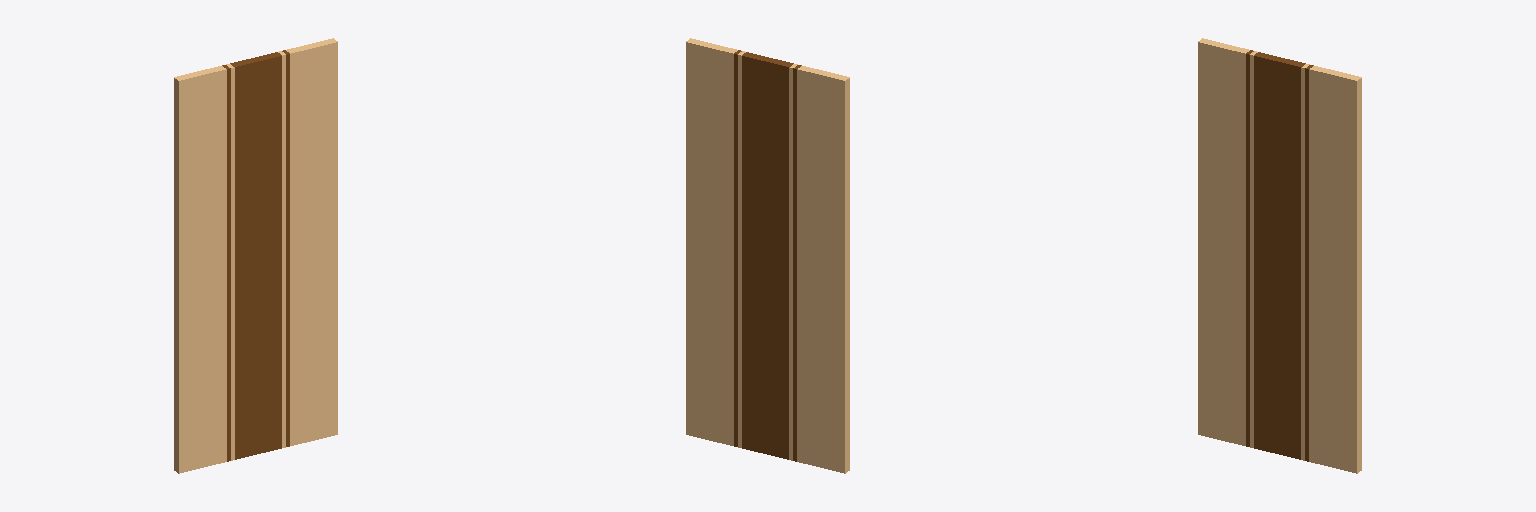
File: flat-8.obj
The picture shows the model from 3 angles: view 1: azimuth 30°, elevation 25°; view 2: azimuth 150°, elevation 25°; view 3: azimuth 330°, elevation 25°; orthographic projection.
Parts seen in each view (by area): view 1: Front_Links4, Front_Links2, Front_Links, Front_Links3, Front_Links1, Front_linke_Mahagonileiste1, Front_linke_Mahagonileiste; view 2: Front_Links4, Front_Links2, Front_Links, Front_Links3, Front_Links1, Front_linke_Mahagonileiste1, Front_linke_Mahagonileiste; view 3: Front_Links2, Front_Links4, Front_Links, Front_Links3, Front_Links1, Front_linke_Mahagonileiste1, Front_linke_Mahagonileiste.
Boxes of the visible parts, <box> form: Front_Links4: <box>174,66,226,473</box>; Front_Links2: <box>286,38,337,445</box>; Front_Links: <box>230,52,281,459</box>; Front_Links3: <box>226,64,234,460</box>; Front_Links1: <box>278,51,285,447</box>; Front_linke_Mahagonileiste1: <box>222,65,230,461</box>; Front_linke_Mahagonileiste: <box>282,50,289,446</box>; Front_Links4: <box>797,66,849,473</box>; Front_Links2: <box>686,38,737,445</box>; Front_Links: <box>742,52,793,459</box>; Front_Links3: <box>789,64,797,460</box>; Front_Links1: <box>738,51,745,447</box>; Front_linke_Mahagonileiste1: <box>793,65,801,461</box>; Front_linke_Mahagonileiste: <box>734,50,741,446</box>; Front_Links2: <box>1309,66,1361,473</box>; Front_Links4: <box>1198,38,1249,445</box>; Front_Links: <box>1254,52,1305,459</box>; Front_Links3: <box>1250,51,1257,447</box>; Front_Links1: <box>1301,64,1309,460</box>; Front_linke_Mahagonileiste1: <box>1246,50,1253,446</box>; Front_linke_Mahagonileiste: <box>1305,65,1313,461</box>.
Size of the model in its own units: 400 by 940 by 22.